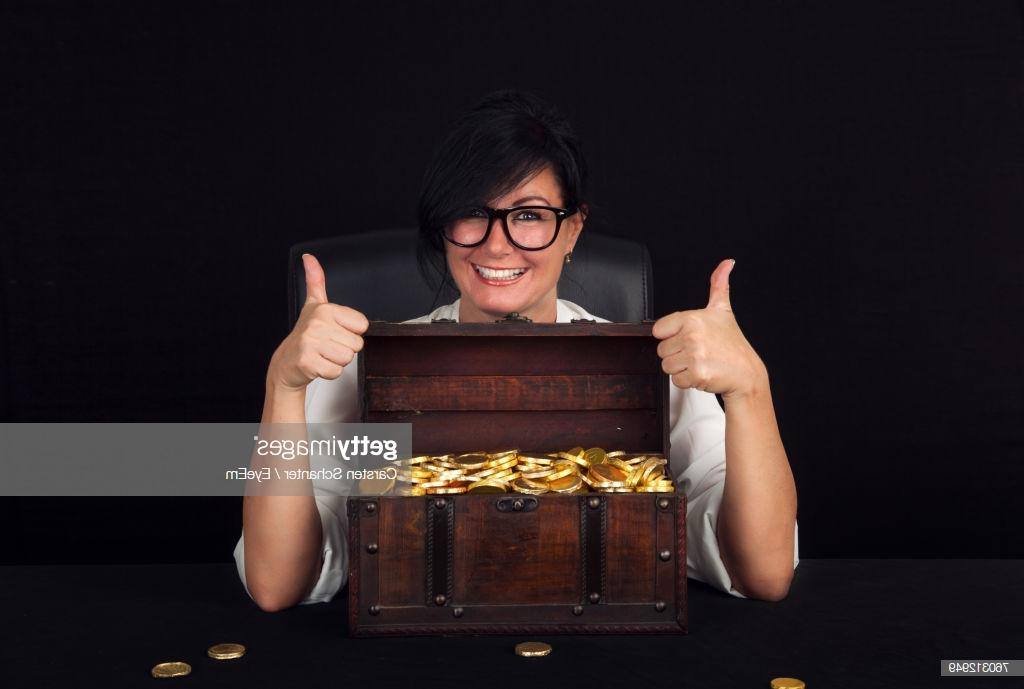thumbsup: (651, 256, 737, 388), (300, 252, 369, 380)
